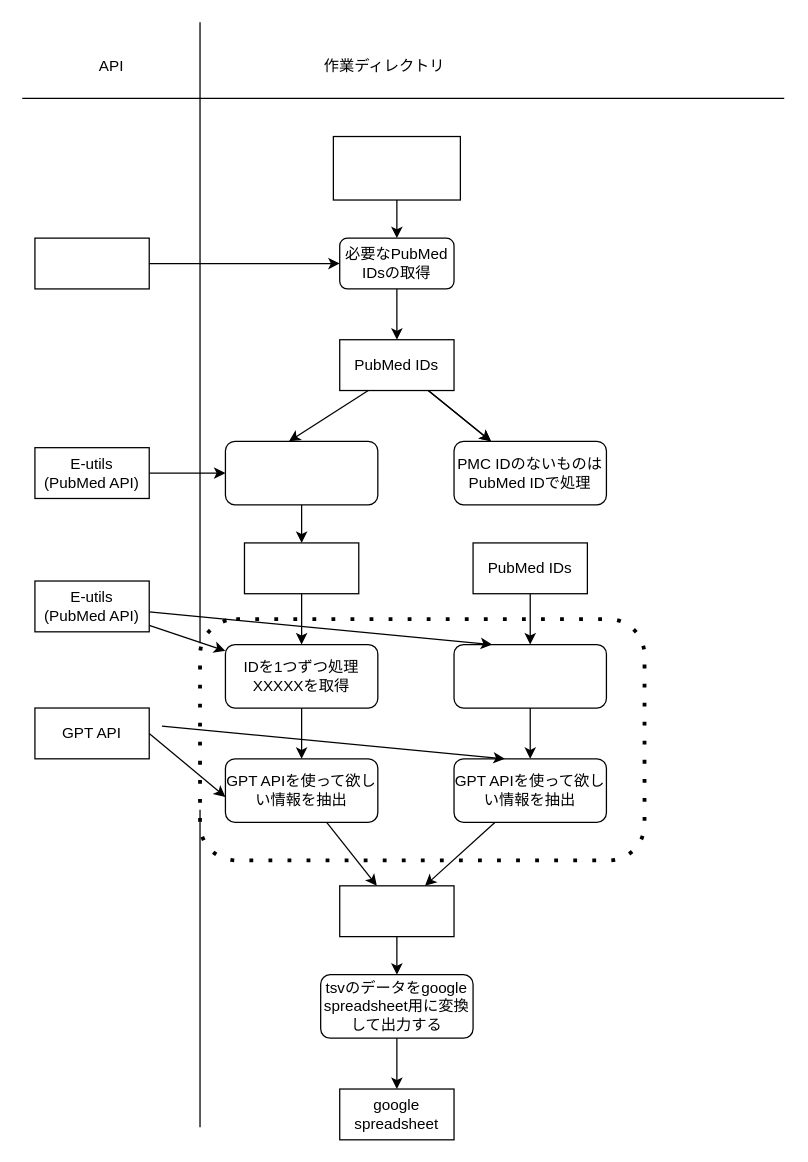
The diagram is 808 pixels wide and 1162 high, and some of its shapes have lost their labels. The shapes that lost their labels are listed below. From the top down, each one's centre as x and y in pixels, then its label:
At (x=396, y=167): "PubMed検索用のクエリー (Parameter)".
At (x=91, y=263): "E-direct (PubMed API)".
At (x=301, y=472): "PMC IDのあるものはPMC IDに変換".
At (x=301, y=568): "PMC IDs".
At (x=529, y=675): "IDを1つずつ処理 ABSTRACTを取得".
At (x=396, y=911): "取得データ（tsv?)".
